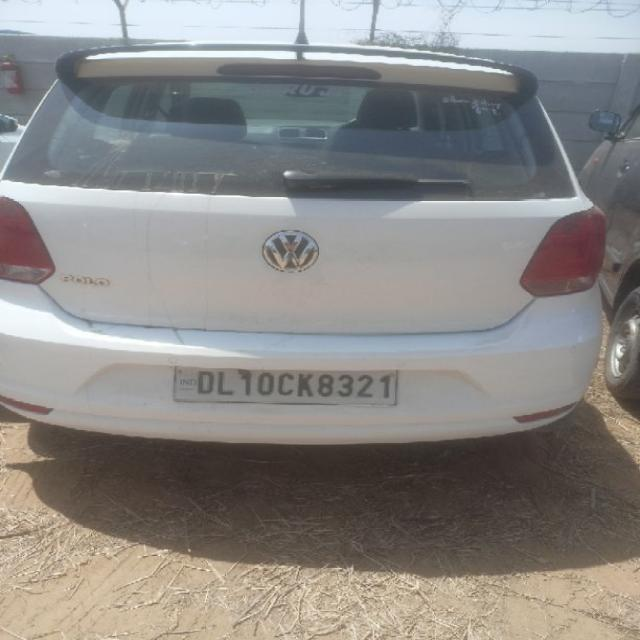license_plate: (170, 364, 398, 406)
